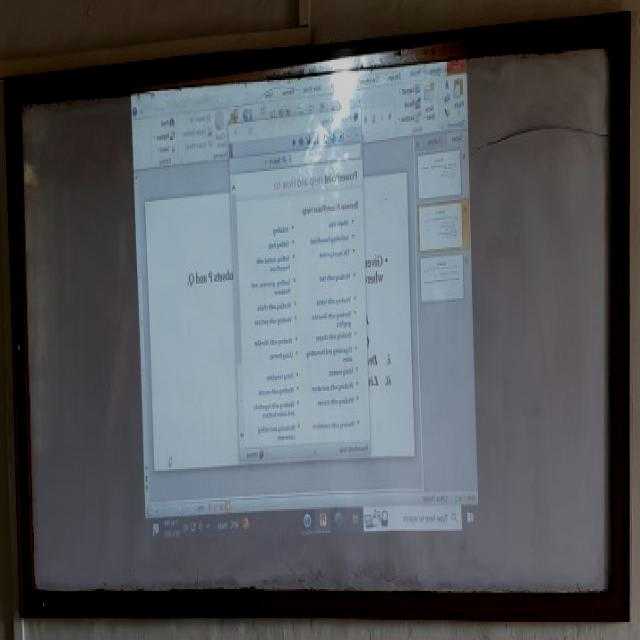Slide: (131, 46, 482, 543)
White-board: (11, 28, 624, 610)
